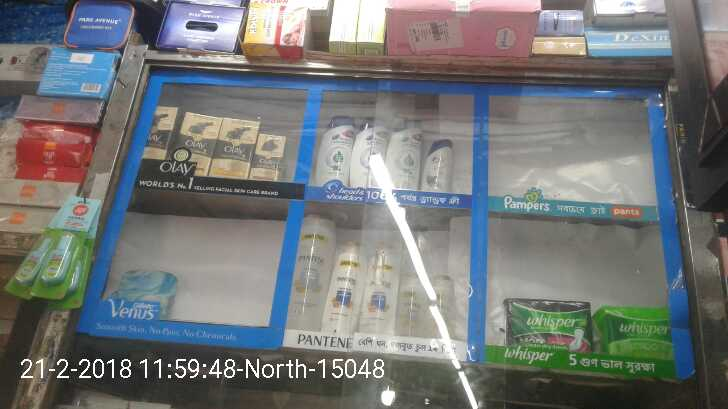venus: (107, 269, 176, 312)
